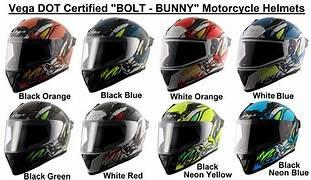Helmet: (5, 17, 75, 91), (82, 17, 152, 91), (237, 17, 307, 91), (161, 17, 230, 90), (81, 102, 148, 174), (235, 101, 300, 174), (5, 101, 71, 172), (157, 101, 219, 173)
